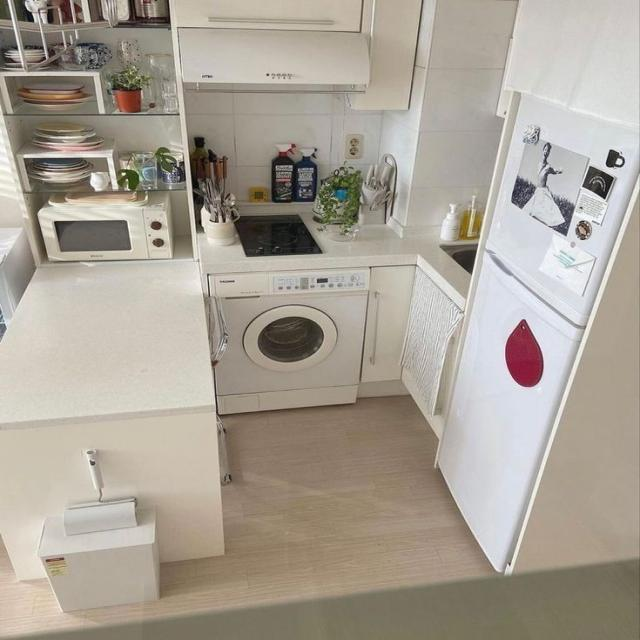obstacle: (432, 0, 639, 576)
